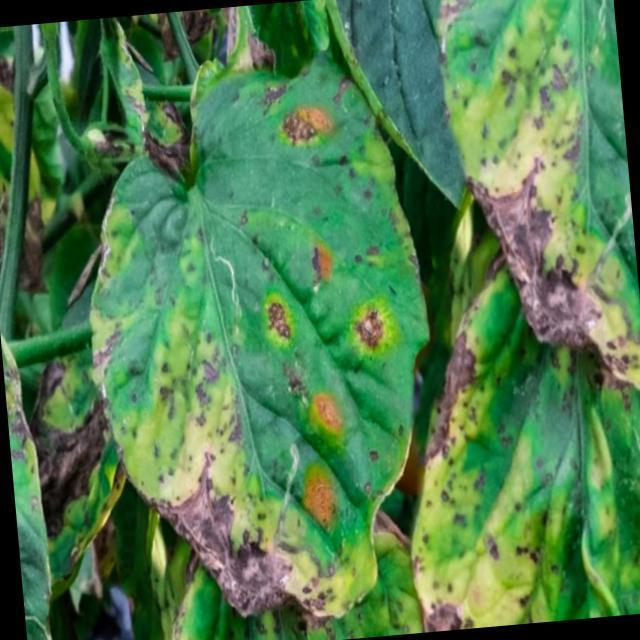Septoria: (86, 92, 406, 618), (449, 0, 640, 397), (388, 344, 640, 633)
